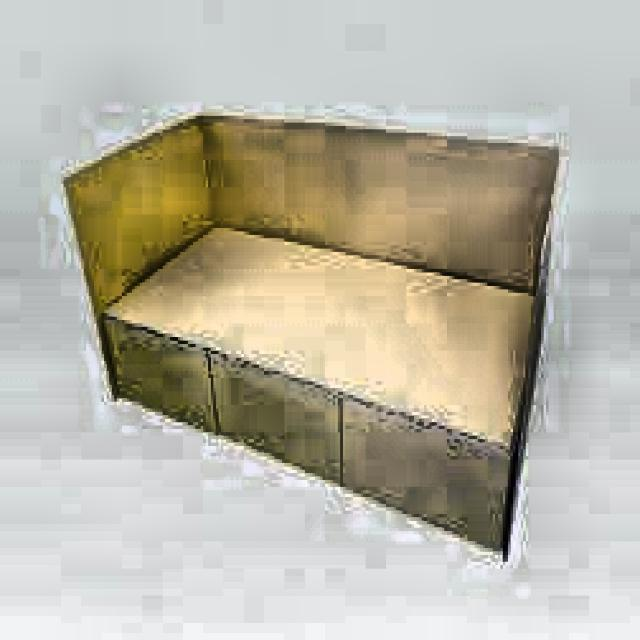cardboard: (61, 109, 566, 562)
